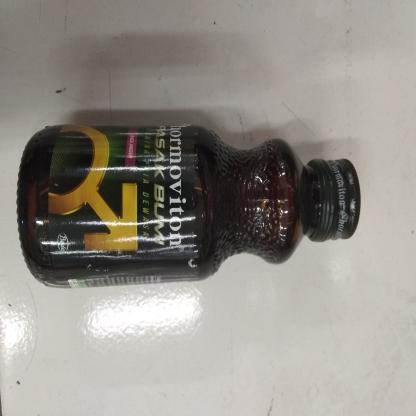glass: (14, 118, 369, 298)
